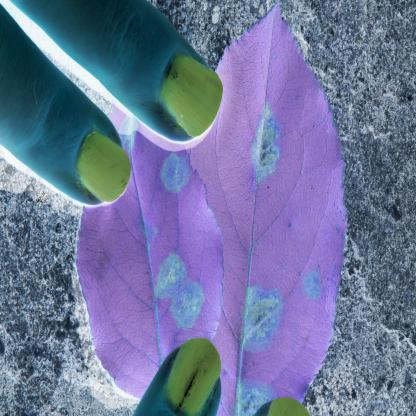apple scab leaf: (77, 119, 220, 397), (230, 71, 351, 398)
